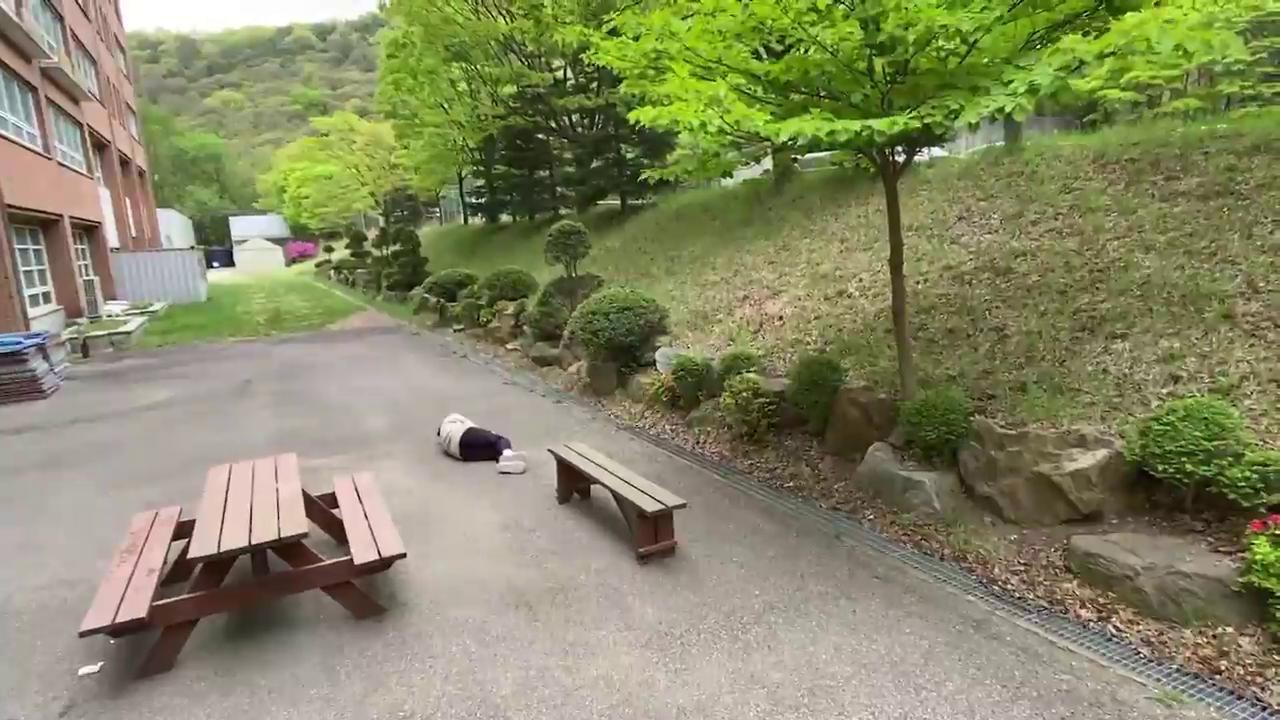faint: (431, 412, 533, 478)
